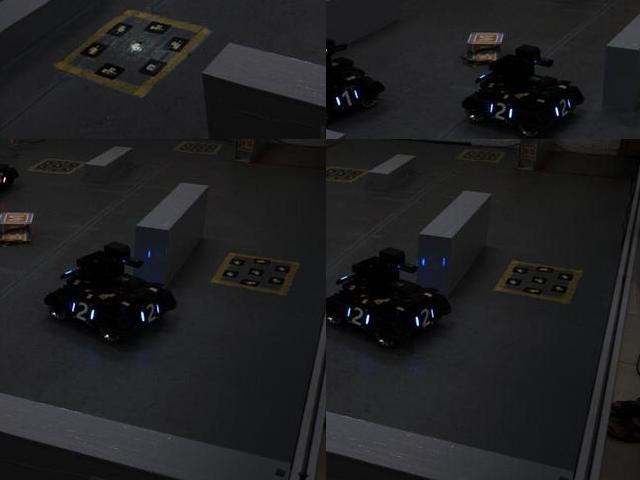armor: (342, 299, 374, 331), (68, 297, 98, 327), (329, 86, 361, 112), (486, 97, 515, 125), (136, 300, 164, 328), (413, 304, 438, 332), (552, 93, 573, 123), (0, 168, 14, 187)
